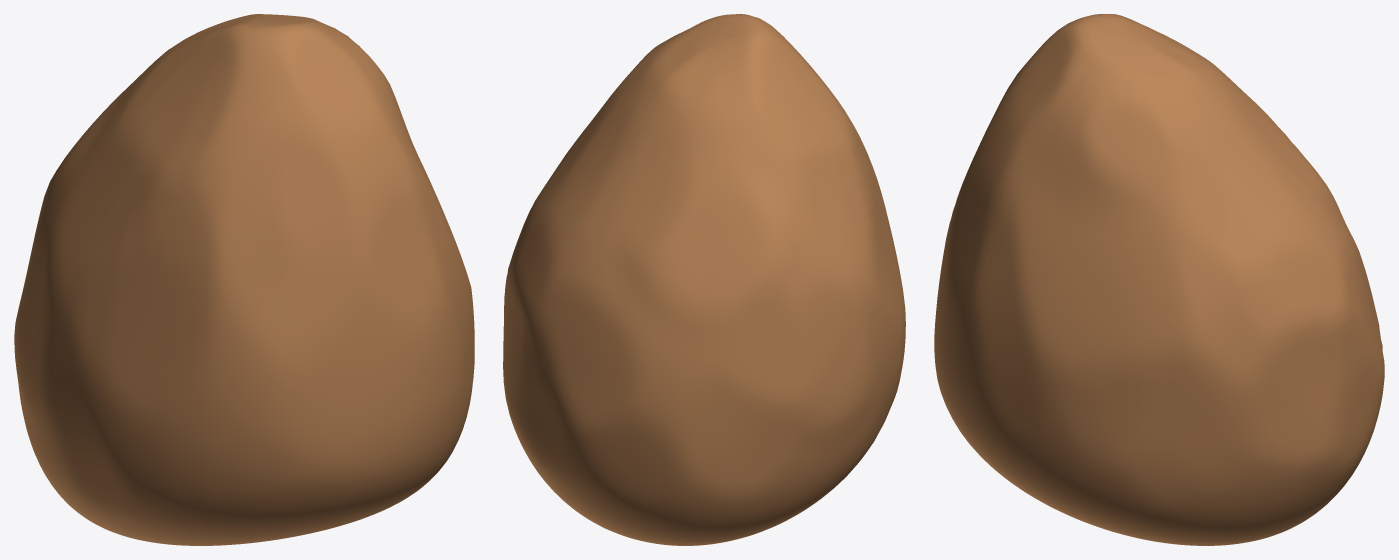
File: rocks.fbx
3 renders of one model, left to right at view 1: azimuth 30°, elevation 25°; view 2: azimuth 150°, elevation 25°; view 3: azimuth 270°, elevation 25°, orthographic. The views are drawn at different scales.
Parts seen in each view (by area): view 1: Sphere; view 2: Sphere; view 3: Sphere.
Part boxes in pixels (x1,y1,x2,y2): Sphere: [14, 14, 474, 545]; Sphere: [503, 14, 905, 545]; Sphere: [934, 14, 1384, 545].
Bounding box in the file's own units: 198 × 259 × 216.
